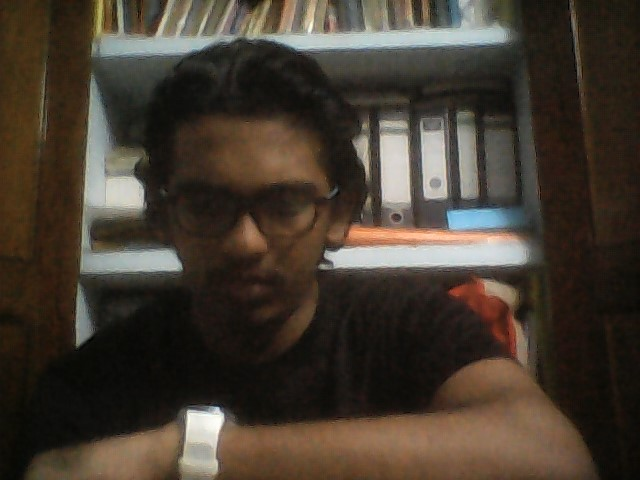person: (74, 36, 519, 480)
smartwatch: (148, 401, 247, 480)
